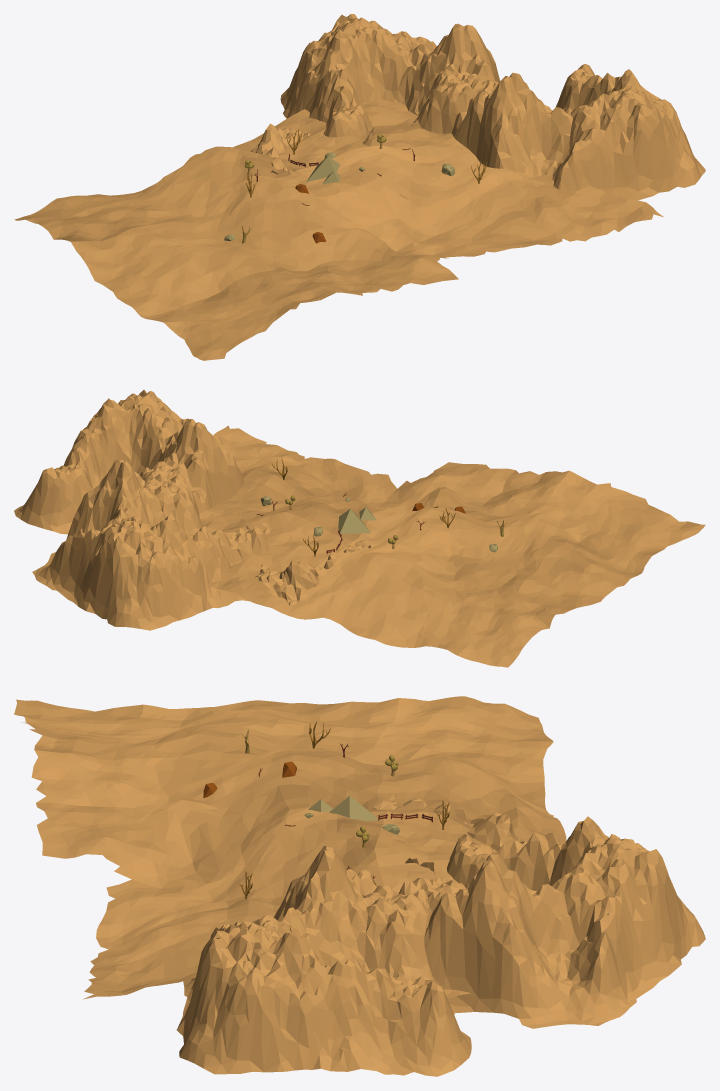
The model's file is sabaku.fbx.
3 renders of one model, top to bottom at view 1: azimuth 30°, elevation 25°; view 2: azimuth 150°, elevation 25°; view 3: azimuth 270°, elevation 25°, orthographic. The views are drawn at different scales.
Parts seen in each view (by area): view 1: Environment_3; view 2: Environment_3, pCone1; view 3: Environment_3, pCone1.
Part boxes in pixels (x1=…): Environment_3: x1=14, y1=14, x2=705, y2=360; Environment_3: x1=14, y1=389, x2=705, y2=667; pCone1: x1=338, y1=509, x2=370, y2=533; Environment_3: x1=14, y1=696, x2=705, y2=1076; pCone1: x1=329, y1=796, x2=378, y2=821.
Size of the model in its own units: 391 by 90.94 by 310.
